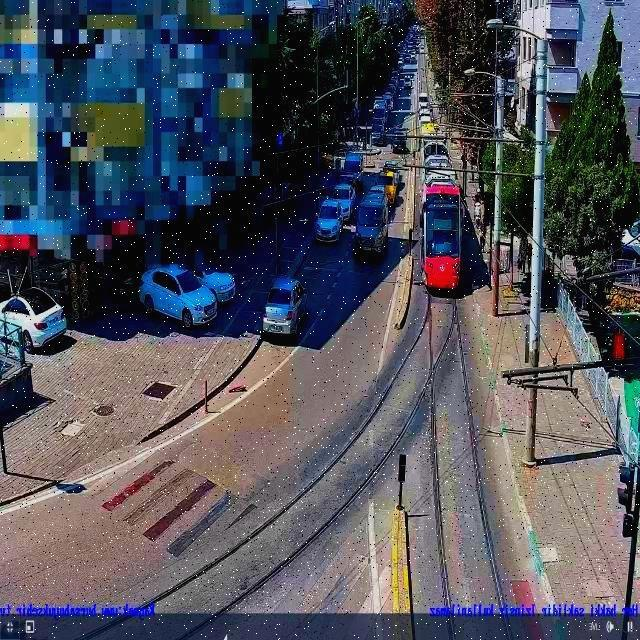Bus: (420, 188, 466, 303)
Car: (137, 262, 220, 326), (2, 289, 68, 352), (260, 275, 303, 340), (353, 190, 391, 256), (314, 199, 348, 241), (327, 182, 357, 222)
